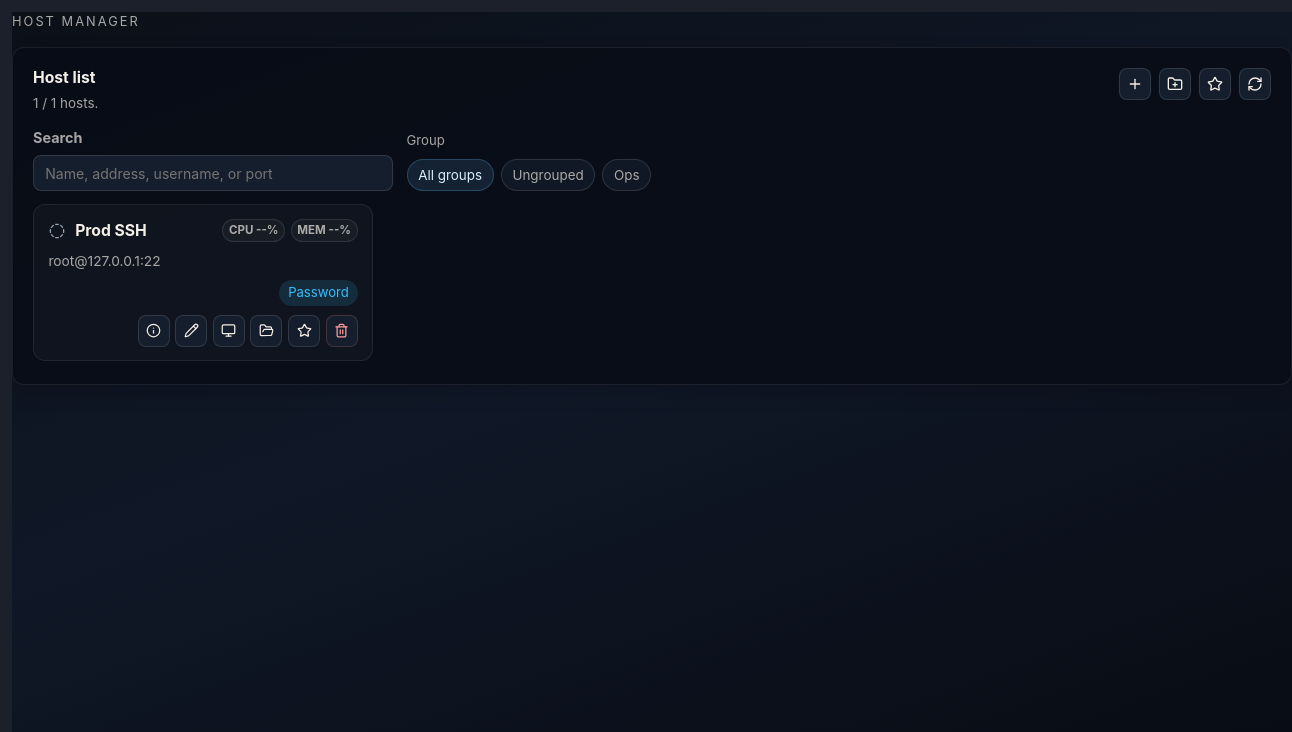
Test: HostsPage › toggles a host favorite from the host card
The width and height of the screenshot is (1292, 732).
Expected: the text "Prod SSH" is shown, [75,221,147,240]
What coordinates should you click on to do the following:
click the button named "Add to favorites"
I would click on:
 (304, 331)
Its box is [288,315,320,347].
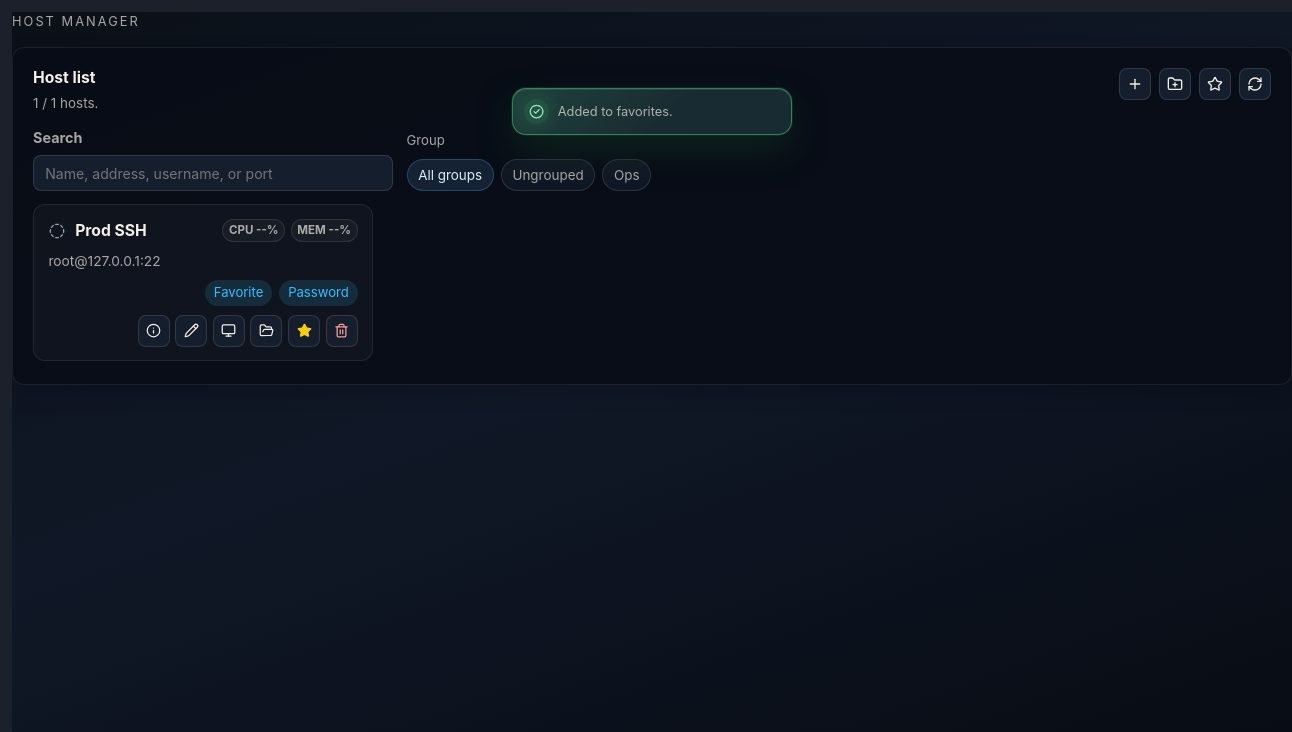
Now the text "Added to favorites." is shown, box [558,104,673,119]
Now the button named "Remove favorite" is shown, box [288,315,320,347]
